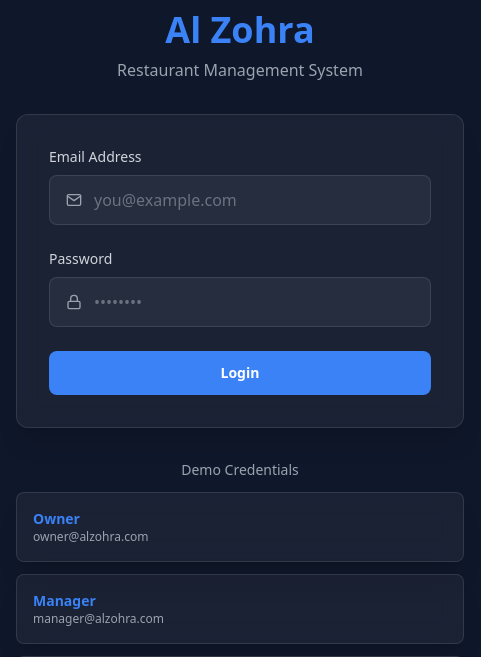
Test: Login Component › displays error on failed login
Type "wrong@example.com" into the field with placeholder "you@example.com" at point(254, 200), box x1=94 y1=188 x2=414 y2=212
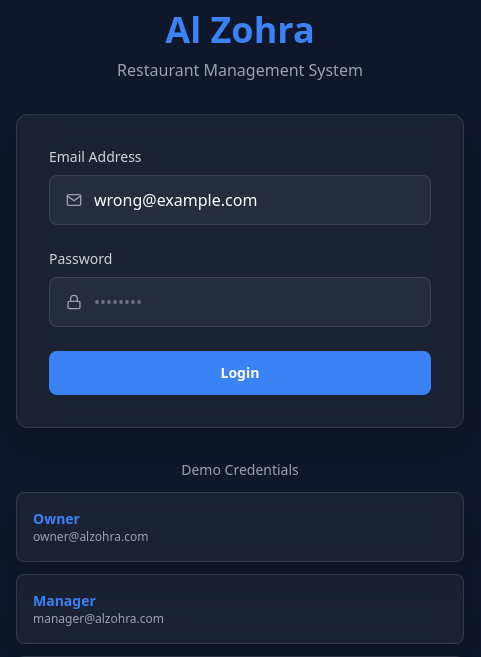
Type "wrongpass" into the password field with placeholder "••••••••" at point(254, 302), box x1=94 y1=290 x2=414 y2=314
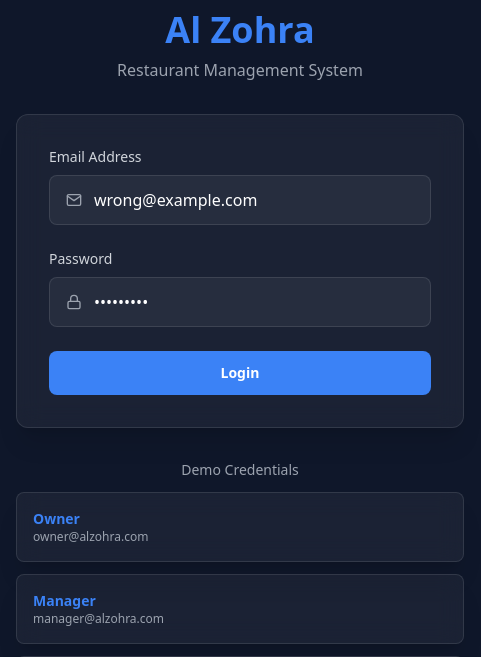
Click the button "Login" at point(240, 373), box x1=49 y1=351 x2=431 y2=395
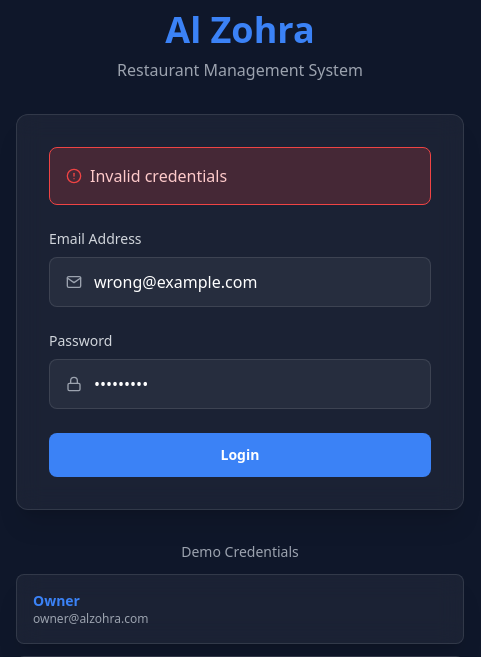
Now the text "Invalid credentials" is shown, box x1=90 y1=164 x2=227 y2=188
